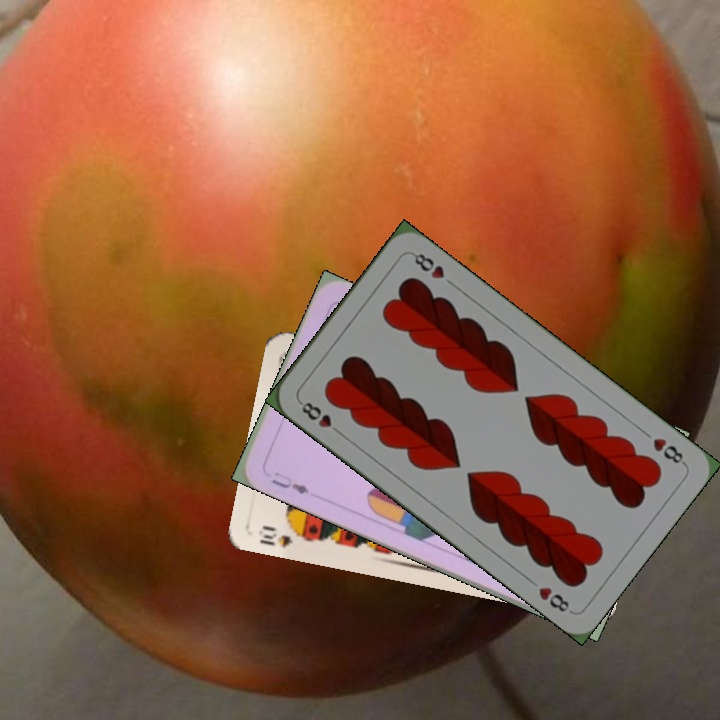EU: (267, 467, 312, 497)
H8: (295, 397, 345, 438), (649, 433, 689, 468)
S10: (254, 521, 309, 551)
